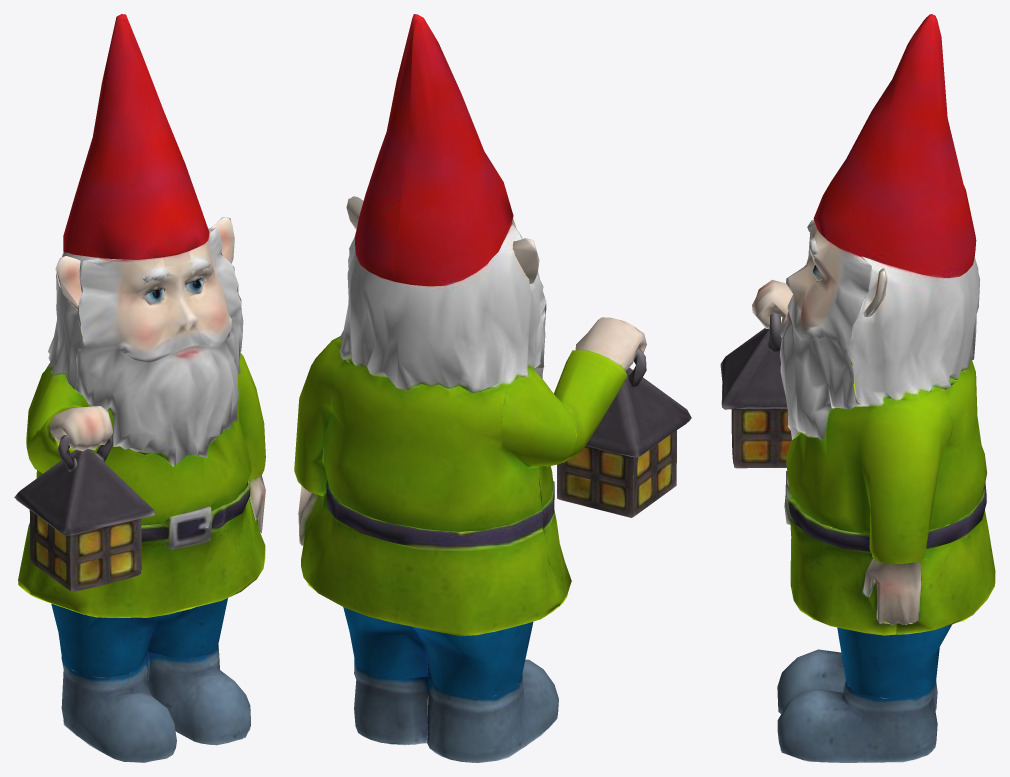
The model's file is garden_gnome.glb.
3 renders of one model, left to right at view 1: azimuth 30°, elevation 25°; view 2: azimuth 150°, elevation 25°; view 3: azimuth 270°, elevation 25°, orthographic. The views are drawn at different scales.
Visible parts, largest first — view 1: garden_gnome; view 2: garden_gnome; view 3: garden_gnome.
Part boxes in pixels (x1,y1,x2,y2): garden_gnome: [14, 14, 265, 762]; garden_gnome: [294, 14, 691, 762]; garden_gnome: [720, 14, 995, 762].
Bounding box in the file's own units: 0.2575 × 0.5994 × 0.2097.
1 material, 1 textured.
